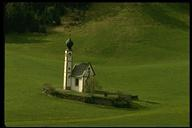field: (106, 34, 188, 84), (8, 39, 59, 78)
house: (62, 34, 95, 92)
tree: (7, 2, 48, 34)
